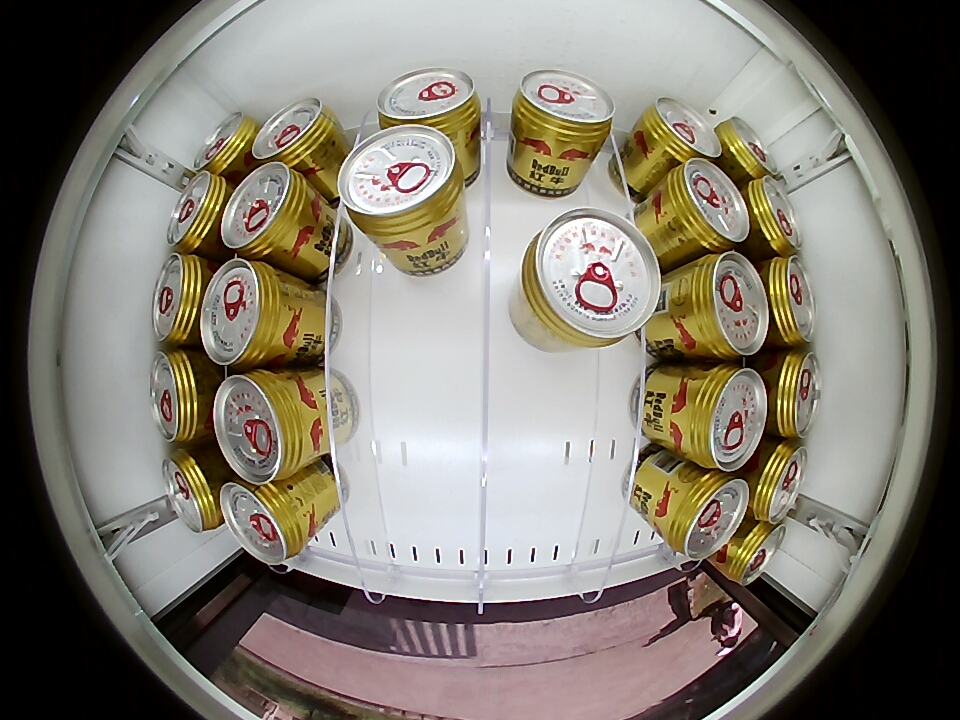hongniu: (516, 208, 662, 349), (337, 124, 467, 240), (213, 370, 310, 484), (200, 258, 292, 369), (679, 363, 768, 473), (681, 251, 769, 361), (220, 162, 314, 259), (661, 158, 749, 253), (662, 469, 750, 561), (512, 70, 615, 148), (220, 479, 310, 566), (375, 67, 482, 134), (252, 98, 337, 168), (150, 349, 211, 445), (638, 97, 721, 164), (152, 253, 210, 347), (166, 171, 230, 254), (161, 450, 223, 534), (761, 255, 817, 347), (748, 439, 809, 523), (766, 350, 822, 439), (743, 176, 803, 256), (723, 520, 786, 586), (194, 112, 257, 176), (717, 117, 777, 179)
